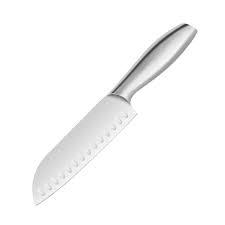Knife: (31, 21, 197, 205)
